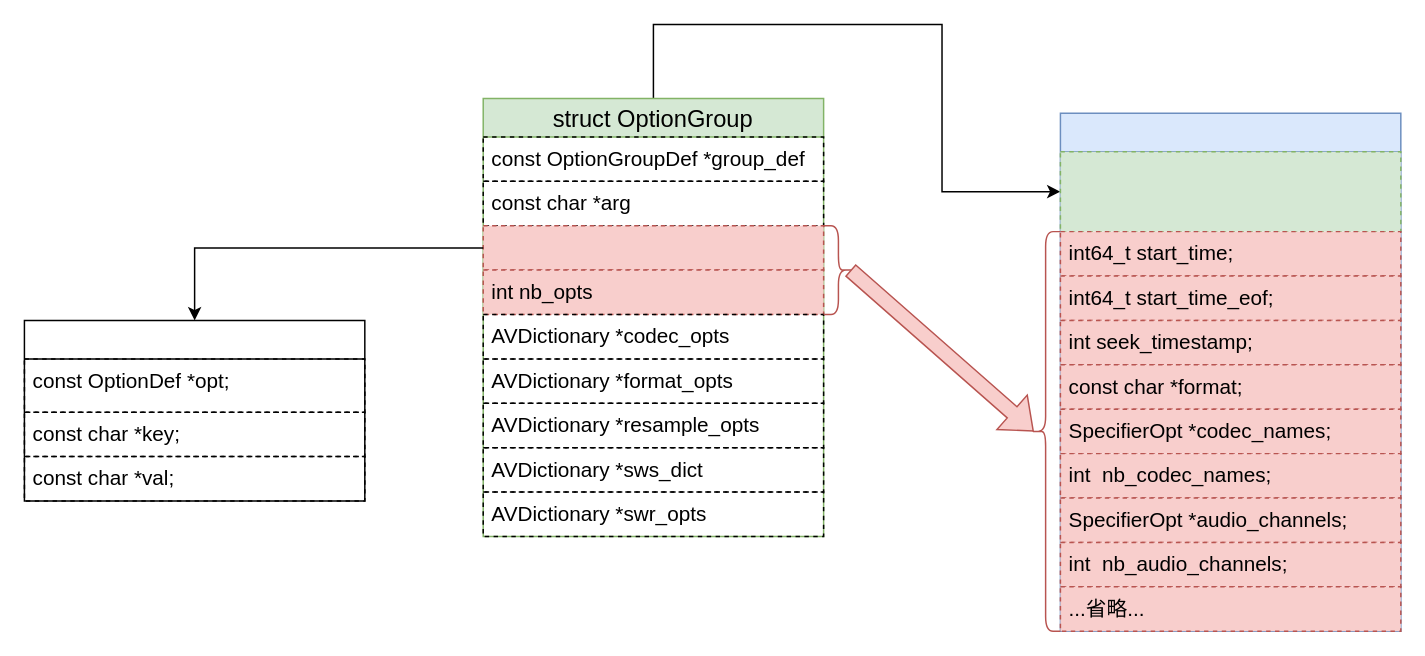
This 1425x656 diagram has some shape labels left out. The shapes that lost their labels are listed below. From the top down, each one's box as (x1, y1, x2, y2) in pixels, then its label:
(1059, 150, 1401, 232): OptionGroup *g;
(482, 224, 824, 270): Option *opts
(1059, 112, 1401, 631): struct OptionsContext
(23, 319, 365, 501): struct Option
